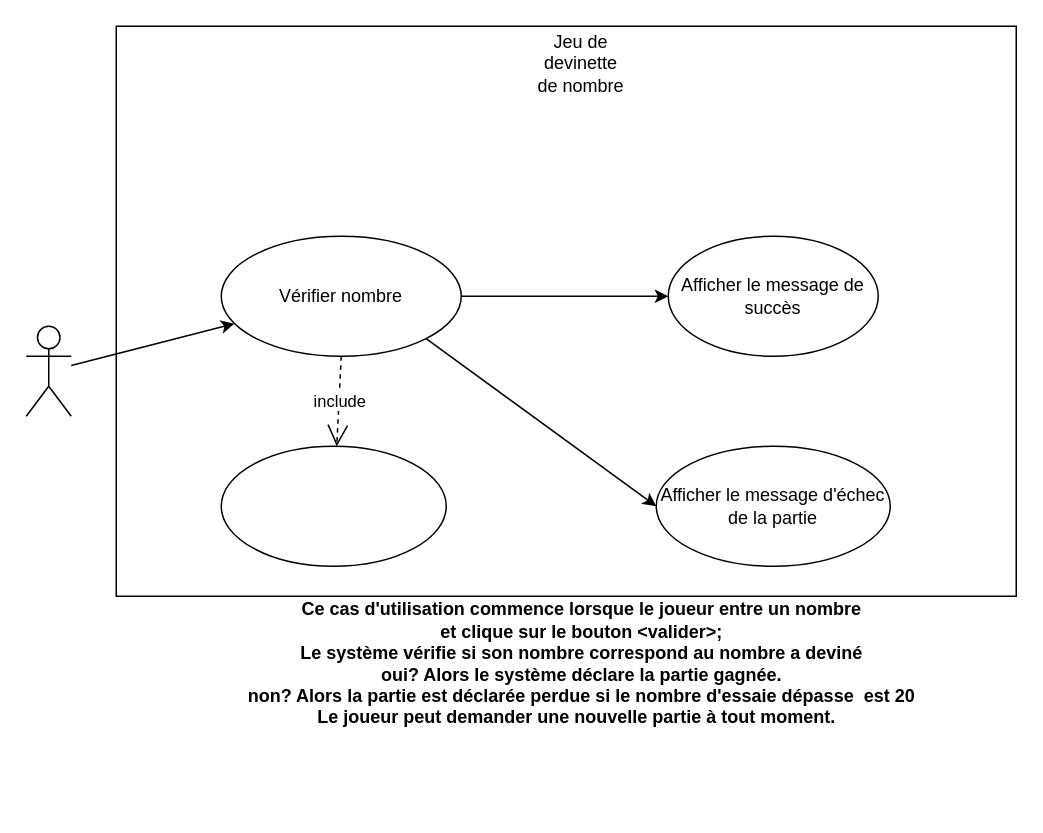
This 1043x833 diagram has some shape labels left out. The box of each missing label's shape, as (x1, y1, x2, y2) in pixels:
Actor: (25, 325, 71, 416)
Demander nouvelle partie: (220, 445, 446, 566)
